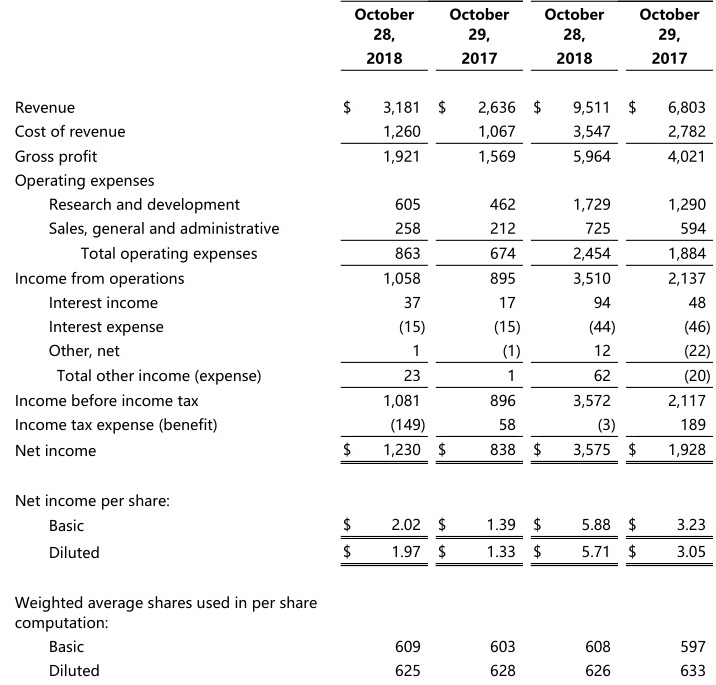column: (15, 1, 319, 685), (626, 1, 712, 684), (532, 1, 617, 685), (439, 1, 522, 685), (343, 2, 426, 684)
row: (1, 492, 716, 511), (1, 595, 716, 612), (1, 5, 715, 22), (1, 99, 715, 116), (1, 150, 715, 167), (1, 221, 715, 238), (1, 174, 716, 190), (1, 516, 716, 532), (1, 27, 715, 43), (1, 271, 715, 287), (1, 246, 716, 261), (1, 344, 716, 359), (1, 394, 716, 409), (1, 443, 716, 458), (1, 639, 716, 654), (1, 417, 715, 432), (1, 198, 716, 212), (1, 320, 716, 334), (1, 368, 716, 382), (1, 544, 716, 558), (1, 618, 716, 632), (1, 125, 715, 139), (1, 296, 716, 309), (1, 663, 716, 676), (1, 52, 715, 65)
